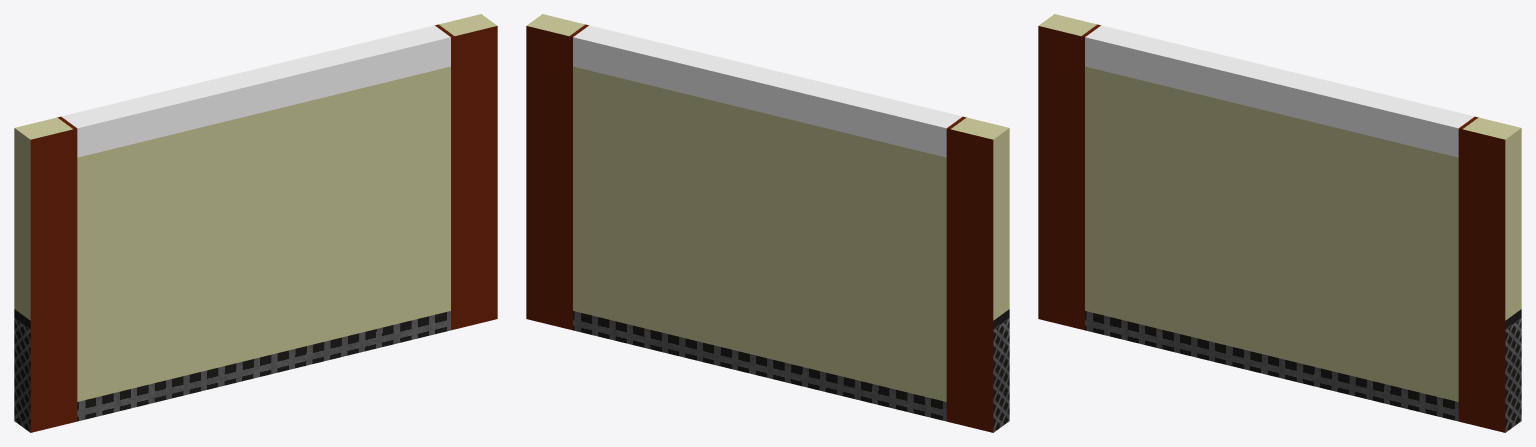
The model's file is Wall_5x3.fbx.
The picture shows the model from 3 angles, left to right: view 1: azimuth 30°, elevation 25°; view 2: azimuth 150°, elevation 25°; view 3: azimuth 330°, elevation 25°; orthographic projection.
Visible parts, largest first — view 1: Wall_5x3; view 2: Wall_5x3; view 3: Wall_5x3.
Part boxes in pixels (bbox=[...]): Wall_5x3: bbox=[14, 14, 497, 432]; Wall_5x3: bbox=[526, 14, 1009, 432]; Wall_5x3: bbox=[1038, 14, 1521, 432].
Size of the model in its own units: 500 by 300 by 30.
